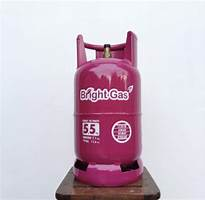bright_gas: (73, 31, 144, 187)
